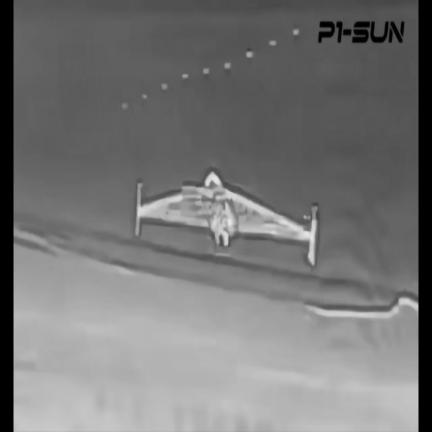Shahed: (135, 170, 319, 266)
